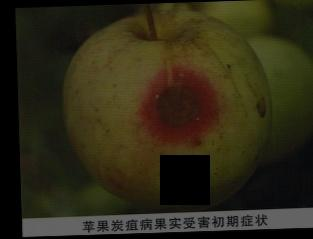rotten apple: (62, 12, 275, 213)
